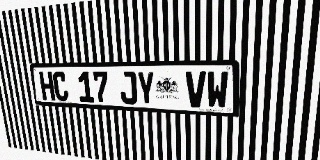1: (77, 72, 94, 103)
7: (92, 71, 110, 103)
C: (52, 72, 69, 101)
H: (39, 72, 55, 101)
J: (119, 71, 138, 105)
V: (185, 71, 206, 108)
W: (207, 71, 229, 109)
Y: (136, 71, 155, 105)
